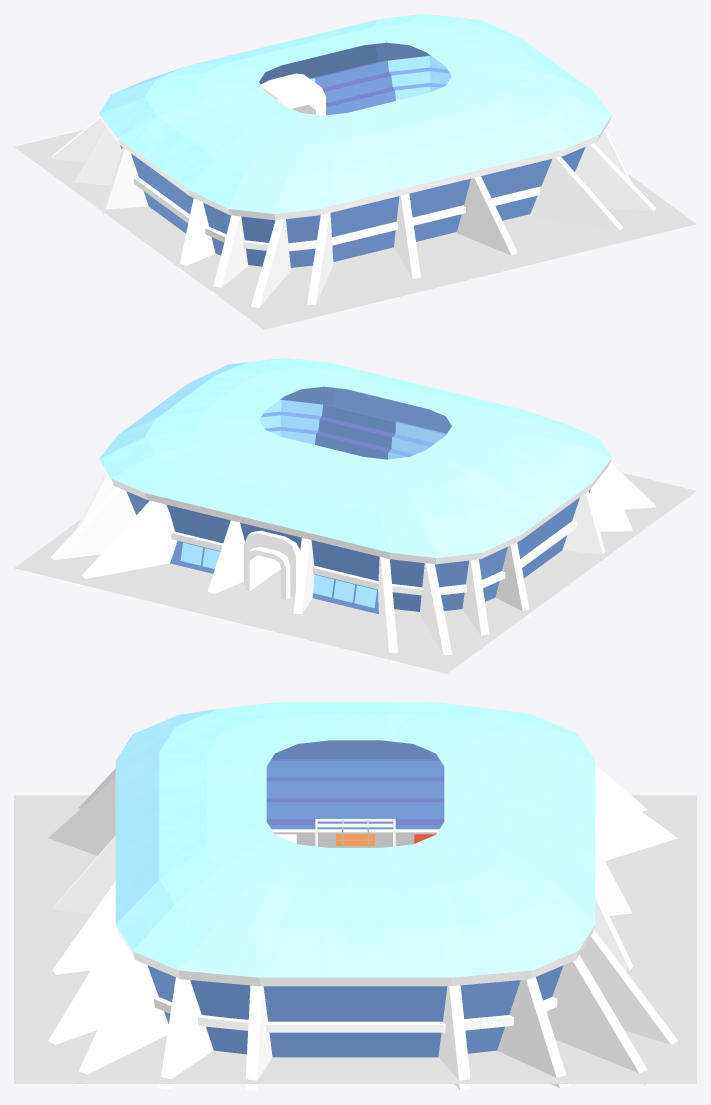
Rendered from stadiums.004.glb.
3 views of the same model, one above another, from view 1: azimuth 30°, elevation 25°; view 2: azimuth 150°, elevation 25°; view 3: azimuth 270°, elevation 25° (orthographic). The views are drawn at different scales.
Visible parts, largest first — view 1: stadiums.004(Clone); view 2: stadiums.004(Clone); view 3: stadiums.004(Clone).
Boxes of the visible parts, left/top/right/bottom form: stadiums.004(Clone): left=14, top=14, right=696, bottom=329; stadiums.004(Clone): left=14, top=358, right=696, bottom=673; stadiums.004(Clone): left=14, top=702, right=696, bottom=1090.
Bounding box in the file's own units: 16 × 4.01 × 16.
1 material, 1 textured.
